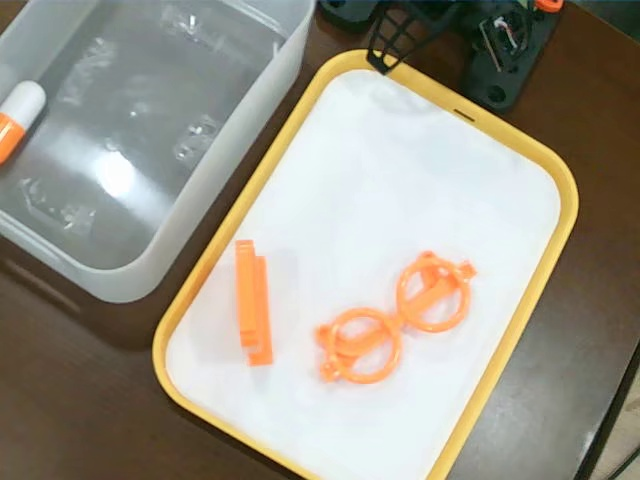pill: (0, 79, 50, 164)
